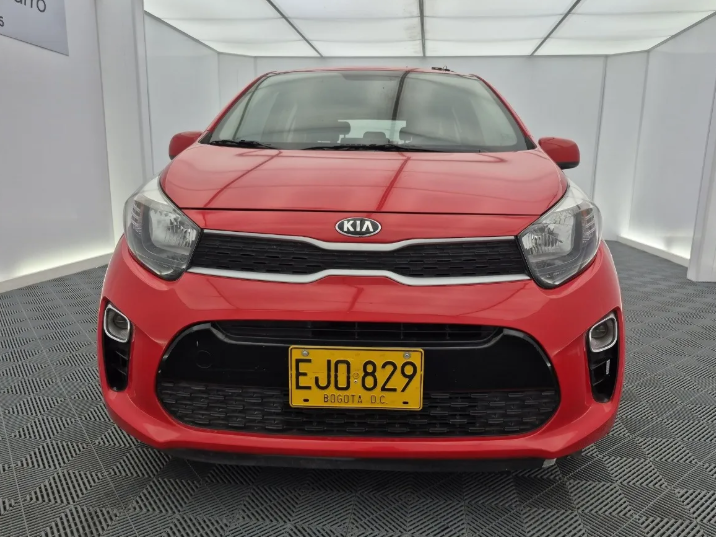placa: (288, 346, 424, 412)
